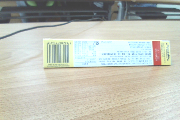Chocolate: (39, 32, 173, 75)
